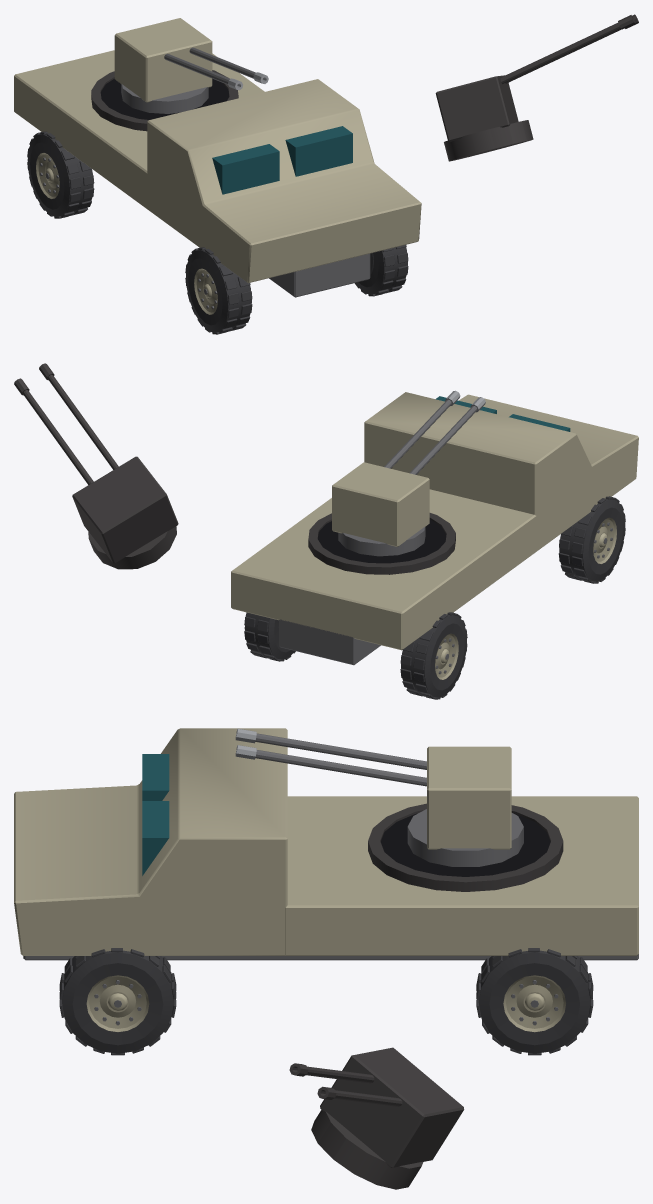
The model's file is aaVehicle__zu_23_2_technical.glb.
3 renders of one model, top to bottom at view 1: azimuth 30°, elevation 25°; view 2: azimuth 150°, elevation 25°; view 3: azimuth 270°, elevation 25°, orthographic. The views are drawn at different scales.
Parts seen in each view (by area): view 1: Hull_Mesh, Wreck, Turret_Mesh, Wheel_L1_Mesh, Wheel_L0_Mesh, Wheel_R1_Mesh, Gun_Mesh; view 2: Hull_Mesh, Wreck, Turret_Mesh, Wheel_L1_Mesh, Wheel_L0_Mesh, Wheel_R0_Mesh, Gun_Mesh; view 3: Hull_Mesh, Wreck, Turret_Mesh, Wheel_R1_Mesh, Wheel_R0_Mesh, Gun_Mesh.
Boxes of the visible parts, x1=… form: Hull_Mesh: x1=14, y1=50, x2=421, y2=297; Wreck: x1=56, y1=14, x2=638, y2=218; Turret_Mesh: x1=114, y1=18, x2=212, y2=113; Wheel_L1_Mesh: x1=185, y1=247, x2=252, y2=334; Wheel_L0_Mesh: x1=27, y1=131, x2=94, y2=218; Wheel_R1_Mesh: x1=354, y1=245, x2=408, y2=296; Gun_Mesh: x1=164, y1=47, x2=268, y2=90; Hull_Mesh: x1=231, y1=392, x2=638, y2=665; Wreck: x1=14, y1=363, x2=610, y2=695; Turret_Mesh: x1=332, y1=462, x2=429, y2=556; Wheel_L1_Mesh: x1=558, y1=496, x2=625, y2=583; Wheel_L0_Mesh: x1=400, y1=612, x2=467, y2=699; Wheel_R0_Mesh: x1=244, y1=612, x2=295, y2=661; Gun_Mesh: x1=384, y1=390, x2=485, y2=474; Hull_Mesh: x1=14, y1=728, x2=638, y2=960; Wreck: x1=289, y1=803, x2=563, y2=1189; Turret_Mesh: x1=407, y1=746, x2=523, y2=866; Wheel_R1_Mesh: x1=59, y1=948, x2=176, y2=1055; Wheel_R0_Mesh: x1=476, y1=948, x2=593, y2=1055; Gun_Mesh: x1=235, y1=728, x2=426, y2=786.
Size of what is drawn, in the model's own units: 6.43 by 2.38 by 5.16.
